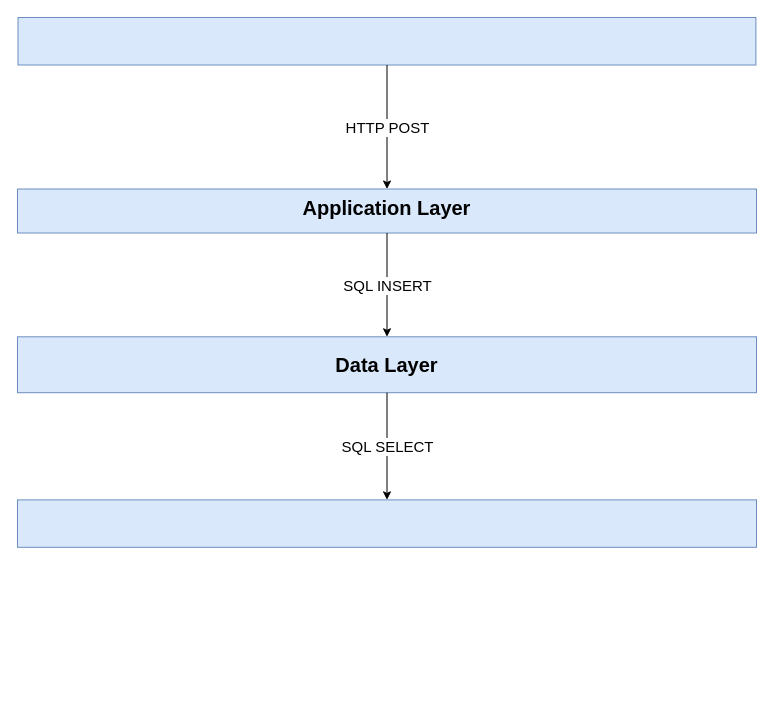
The diagram is 774 pixels wide and 722 high, and some of its shapes have lost their labels. The shapes that lost their labels are listed below. From the top down, each one's centre as x and y in pixels, then its label:
At [386,40]: "Edge Layer".
At [386,523]: "Management Layer".
